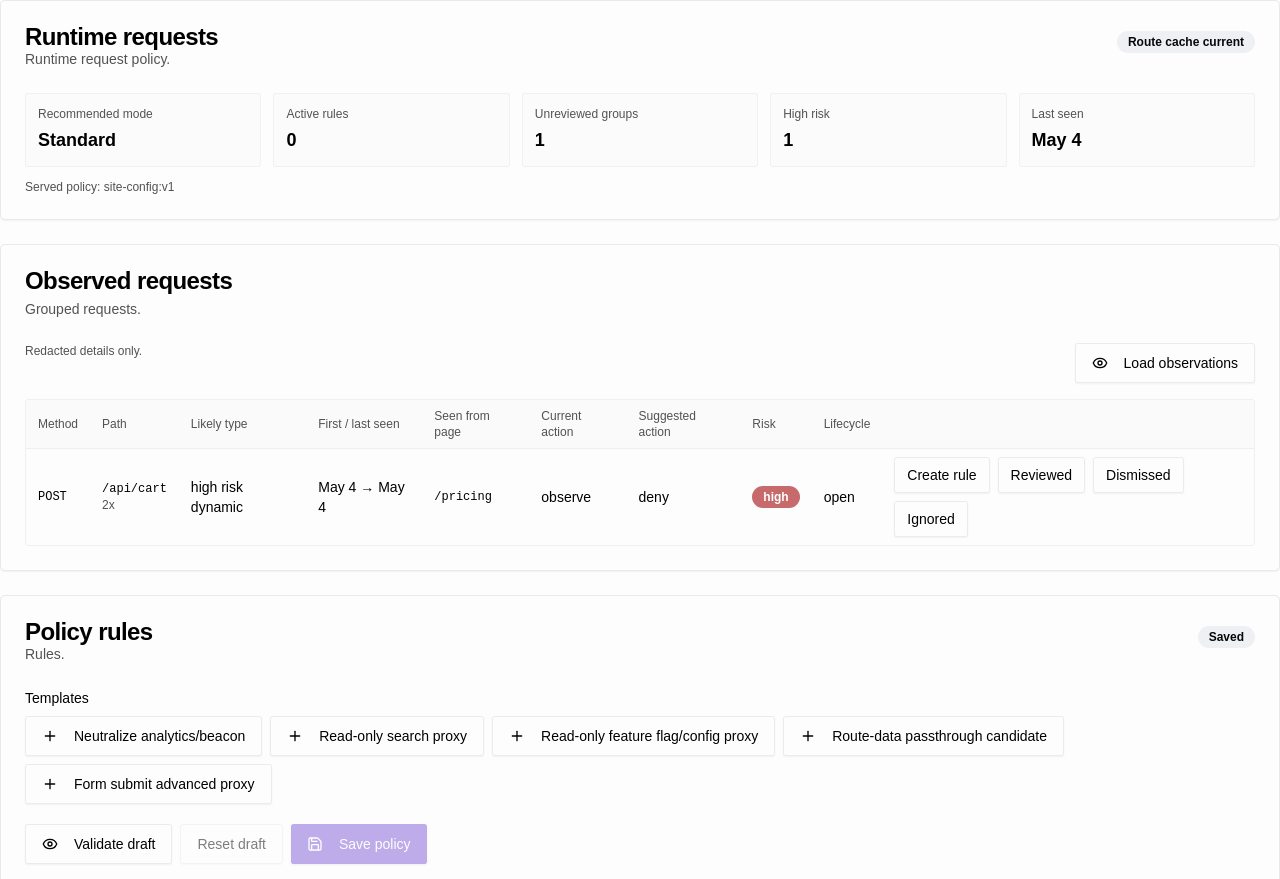
Scenario: RuntimeRequestsManager › blocks save on server validation errors and preserves the draft
The width and height of the screenshot is (1280, 879).
Click the button "Create rule" at (942, 475), box [894, 457, 990, 493]
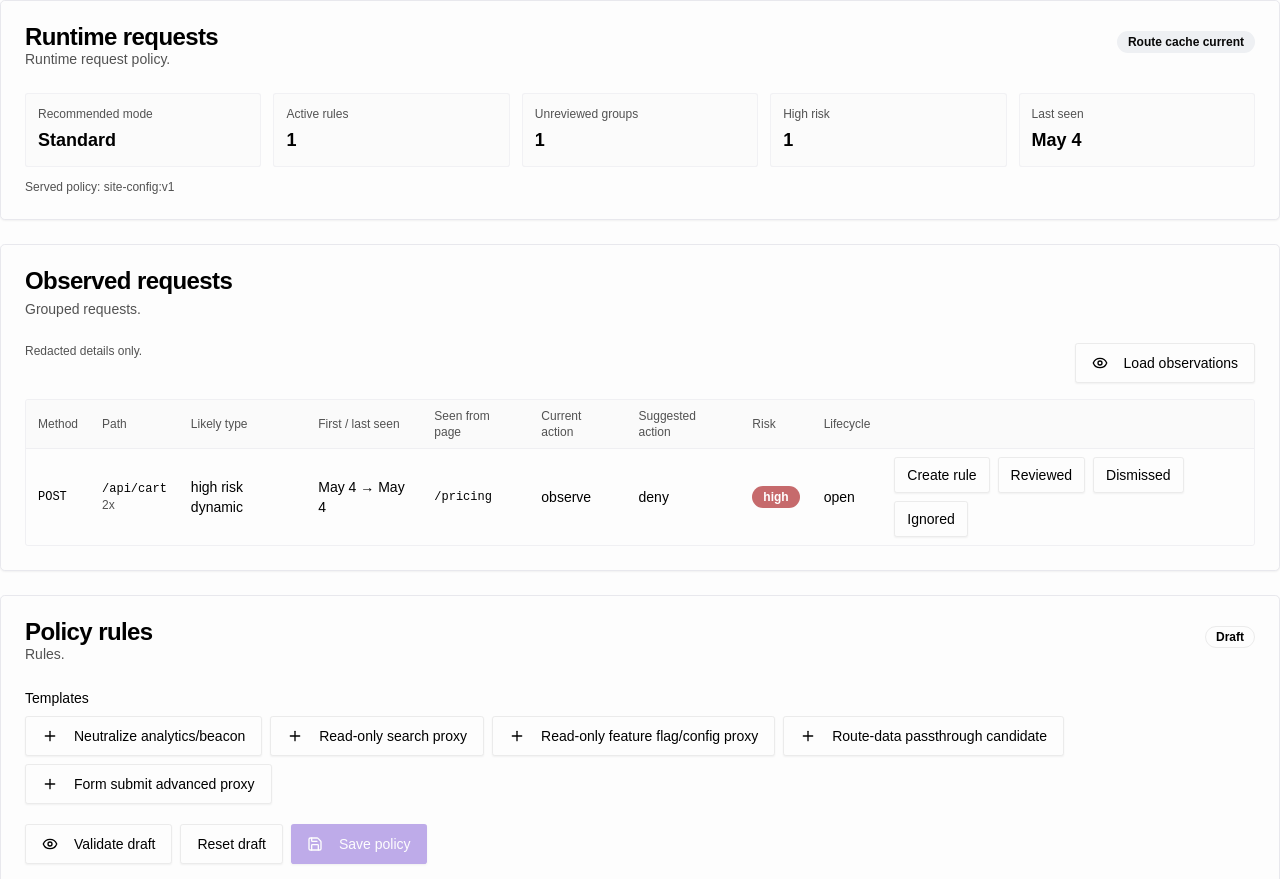
Click the button "Validate draft" at (99, 844), box [25, 824, 172, 864]
(page scrolled)
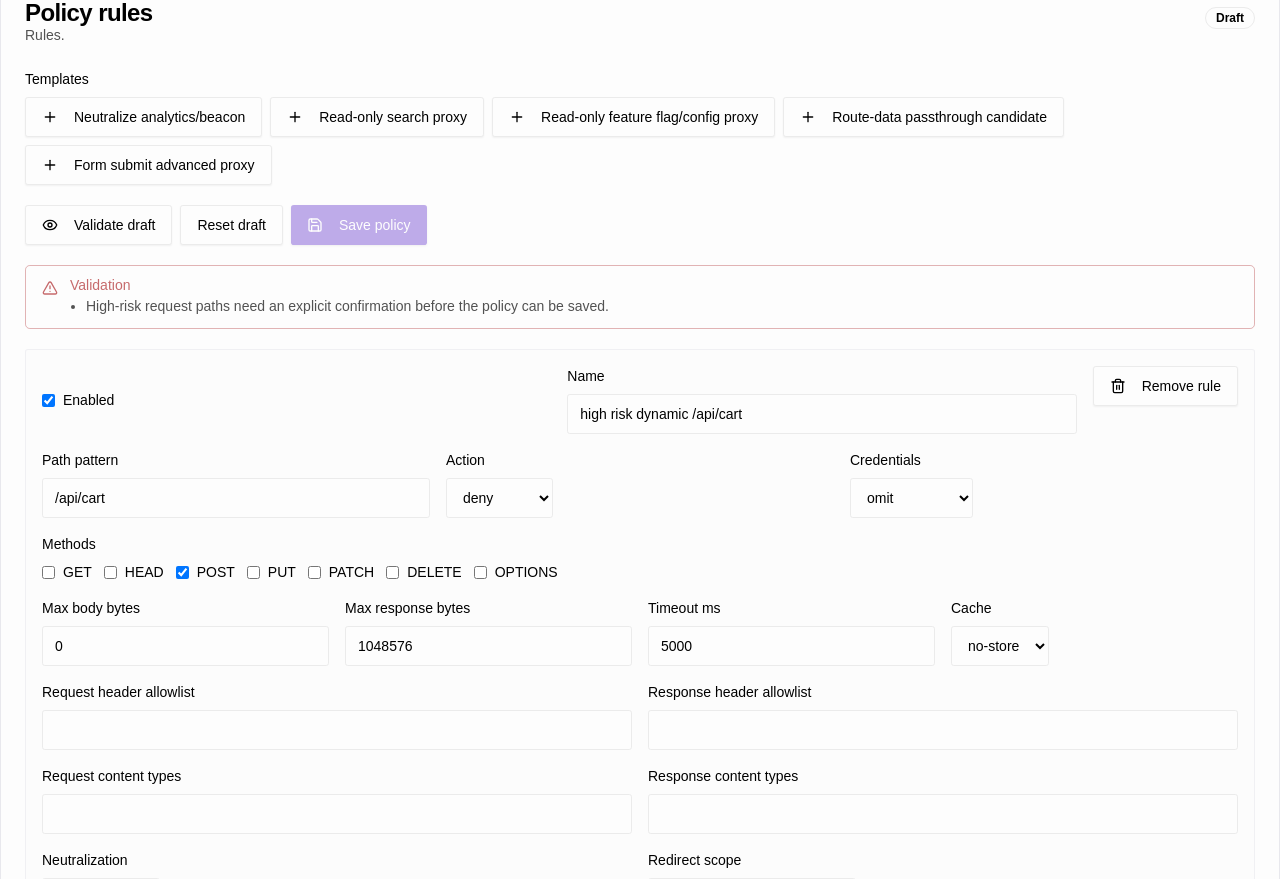
expect the button "Save policy" is disabled: met, box [291, 205, 427, 245]
expect the field showing "/api/cart" is shown: met, box [42, 478, 430, 518]
expect the list item "High-risk request paths need an explicit confirmation before the policy can be saved." is shown: met, box [86, 298, 609, 314]
